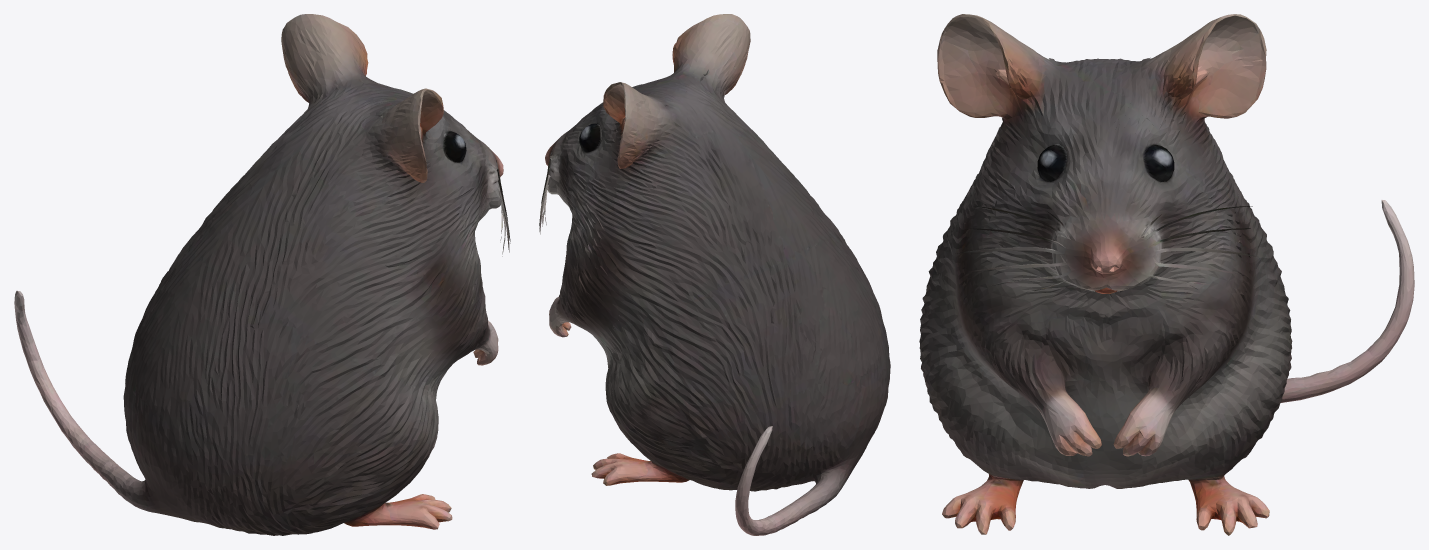
The model's file is fat_mouse_sitting_cute_stylized_animal_character.glb.
The picture shows the model from 3 angles, left to right: view 1: azimuth 30°, elevation 25°; view 2: azimuth 150°, elevation 25°; view 3: azimuth 270°, elevation 25°; orthographic projection. The views are drawn at different scales.
Visible parts, largest first — view 1: tripo_node_11ef6220; view 2: tripo_node_11ef6220; view 3: tripo_node_11ef6220.
Part boxes in pixels (<box>): tripo_node_11ef6220: <box>14,14,510,535</box>; tripo_node_11ef6220: <box>539,14,890,535</box>; tripo_node_11ef6220: <box>919,14,1414,535</box>.
Size of the model in its own units: 0.8871 by 0.9992 by 0.8875.
Materials: 1 (1 with a texture image).
